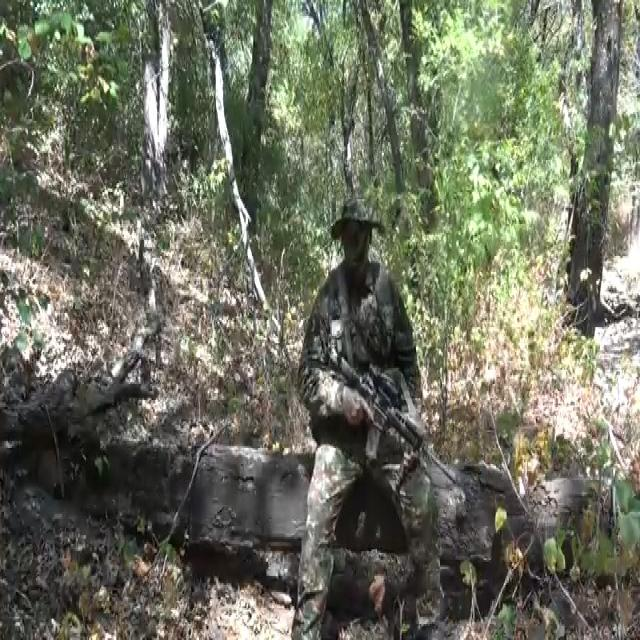MIL_Pax: (292, 198, 444, 637)
